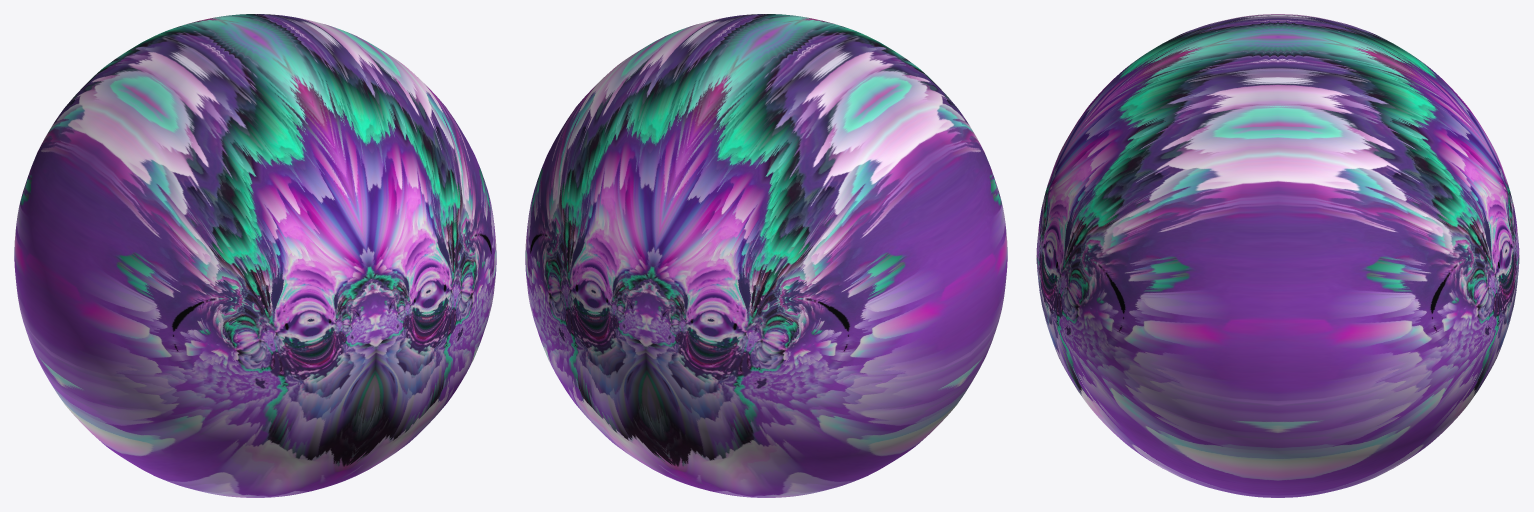
The picture shows the model from 3 angles, left to right: view 1: azimuth 30°, elevation 25°; view 2: azimuth 150°, elevation 25°; view 3: azimuth 270°, elevation 25°; orthographic projection.
Visible parts, largest first — view 1: Sphere_0; view 2: Sphere_0; view 3: Sphere_0.
Boxes of the visible parts, bbox=[...] form: Sphere_0: bbox=[14, 14, 496, 497]; Sphere_0: bbox=[525, 14, 1007, 497]; Sphere_0: bbox=[1036, 14, 1519, 497].
Bounding box in the file's own units: 1.99 × 1.99 × 1.99.
Materials: 1 (1 with a texture image).
